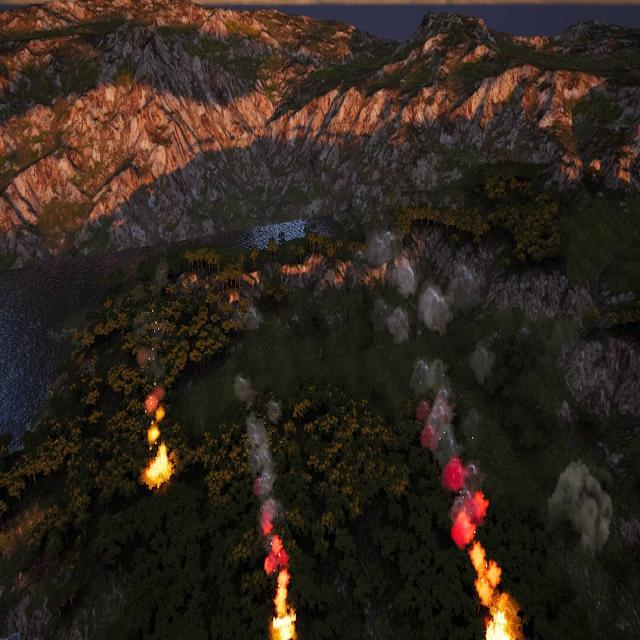fire: (443, 460, 505, 601), (265, 536, 298, 640), (144, 444, 172, 486), (484, 606, 518, 640), (269, 611, 296, 640), (146, 423, 160, 443)
smoke: (378, 245, 503, 606), (241, 375, 293, 605), (548, 457, 613, 558), (140, 328, 167, 436), (144, 384, 166, 424)
